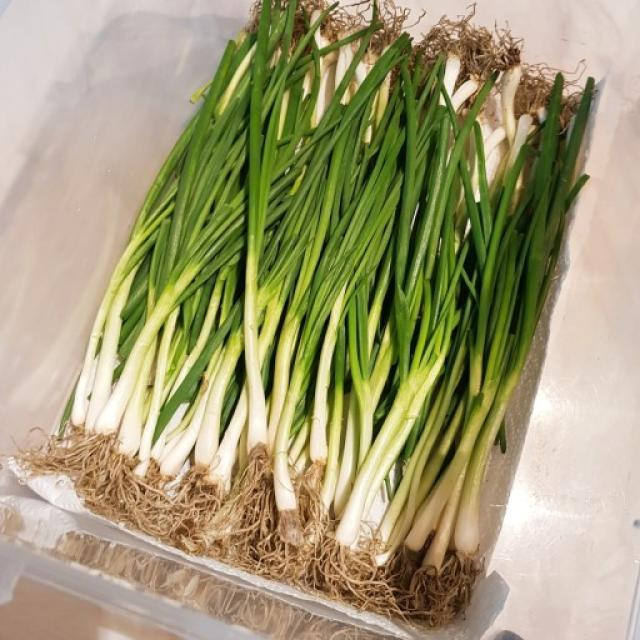green_onion: (70, 0, 390, 492), (373, 76, 593, 576), (317, 81, 428, 536), (242, 39, 281, 467)
